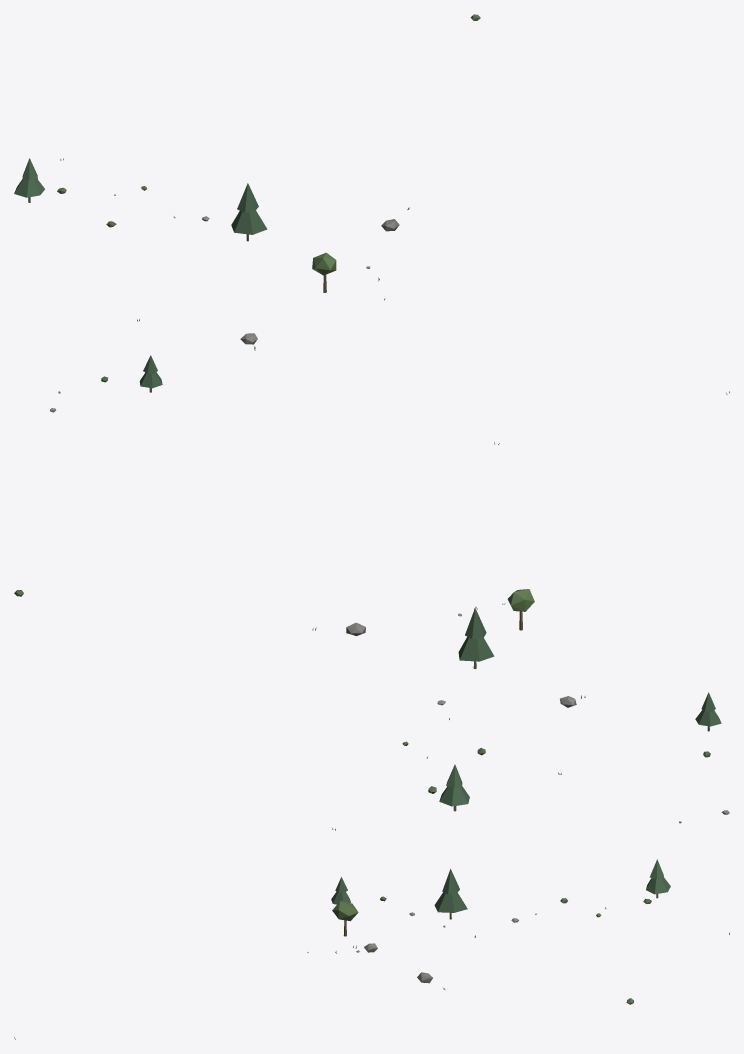
Rendered from arch_land_scatter_c19_20_lod1.glb.
3 views of the same model, one above another, from view 1: azimuth 30°, elevation 25°; view 2: azimuth 150°, elevation 25°; view 3: azimuth 270°, elevation 25° (orthographic). The views are drawn at different scales.
Visible parts, largest first — view 1: arch_land_scatter_c19_20_lod1; view 2: arch_land_scatter_c19_20_lod1; view 3: arch_land_scatter_c19_20_lod1.
Part boxes in pixels (<box>): arch_land_scatter_c19_20_lod1: <box>14,14,729,412</box>; arch_land_scatter_c19_20_lod1: <box>14,441,729,830</box>; arch_land_scatter_c19_20_lod1: <box>14,859,729,1039</box>.
Size of the model in its own units: 133 by 39.65 by 171.
